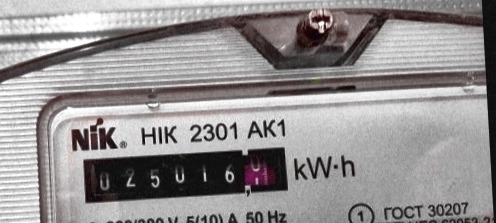0: (171, 161, 186, 184), (95, 169, 109, 191), (247, 152, 260, 172)
1: (196, 158, 208, 184), (250, 175, 258, 186)
2: (121, 164, 135, 188)
5: (146, 166, 158, 188)
6: (220, 160, 234, 186)
screen: (71, 137, 296, 210)
